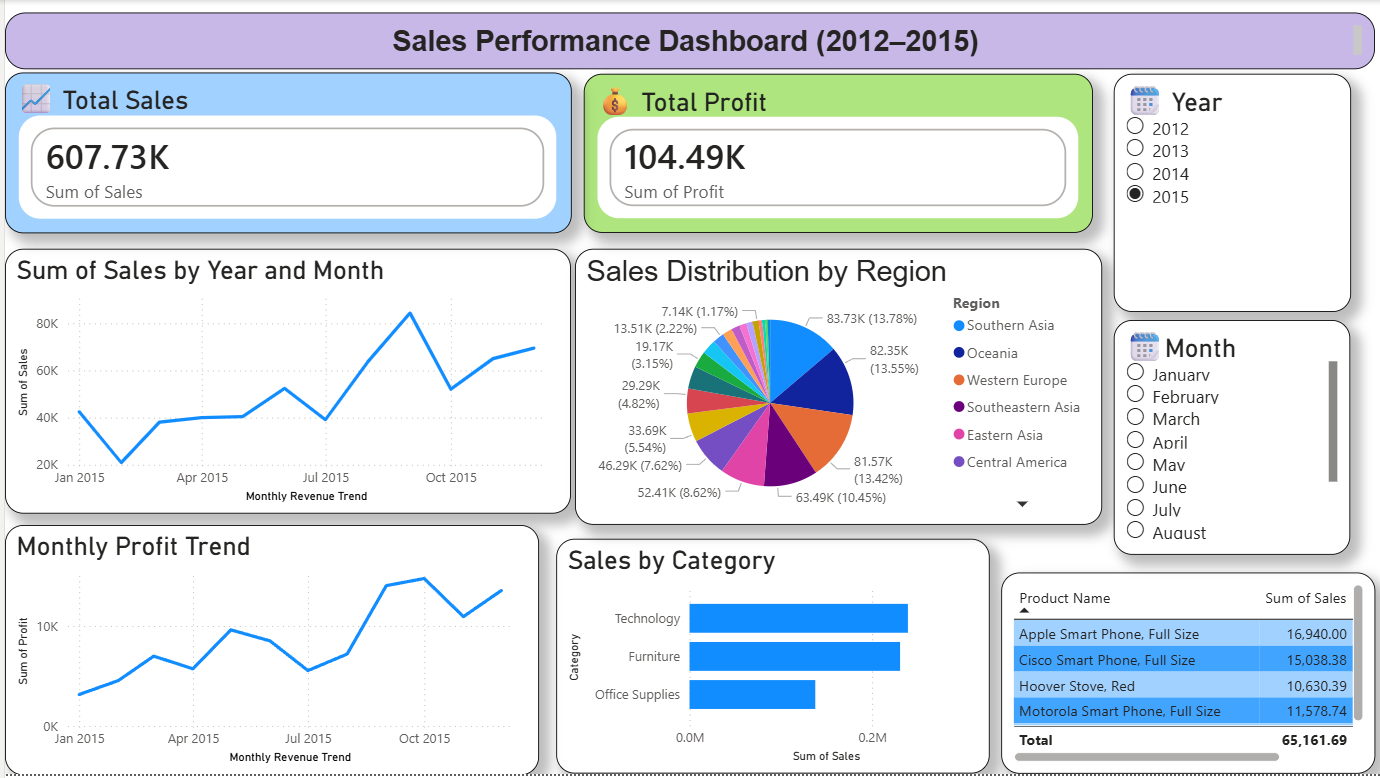

The page's visual inventory and layout, read from the dashboard file:
{"tool":"powerbi","page":{"name":"Page 1","canvas":[1280,720],"ordinal":0},"visuals":[{"type":"lineChart","fields":{"Y":["Sum(sales_data.Sales)"],"Category":["sales_data.Order Date.Variation.Date Hierarchy.Year","sales_data.Order Date.Variation.Date Hierarchy.Month"]},"box":[0,231.4,526.7,246.5],"z":0},{"type":"clusteredBarChart","title":"Sales by Category","fields":{"Category":["sales_data.Category"],"Y":["Sum(sales_data.Sales)"]},"box":[512.8,501.2,403.5,218.6],"z":1000},{"type":"pieChart","title":"Sales Distribution by Region","fields":{"Category":["sales_data.Region"],"Y":["Sum(sales_data.Sales)"]},"box":[530.2,231.4,490.7,257],"z":2000},{"type":"cardVisual","title":"💰 Total Profit","fields":{"Data":["Sum(sales_data.Profit)"]},"box":[538.2,69,473.7,148.1],"z":3000},{"type":"listSlicer","title":"🗓️ Year","fields":{"Values":["sales_data.Order Date.Variation.Date Hierarchy.Year"]},"box":[1031.2,69,220.5,221.6],"z":4000},{"type":"lineChart","title":"Monthly Profit Trend","fields":{"Category":["sales_data.Order Date.Variation.Date Hierarchy.Year","sales_data.Order Date.Variation.Date Hierarchy.Month"],"Y":["Sum(sales_data.Profit)"]},"box":[0,488.4,496.5,232.6],"z":5000},{"type":"tableEx","fields":{"Values":["sales_data.Product Name","Sum(sales_data.Sales)","Sum(sales_data.Profit)"]},"box":[926.7,532.6,347.7,187.2],"z":6000},{"type":"cardVisual","title":"📈 Total Sales","fields":{"Data":["Sum(sales_data.Sales)"]},"box":[0,67.2,526.9,149.6],"z":7000},{"type":"textbox","box":[0,11.3,1274.3,53.1],"z":8000},{"type":"listSlicer","title":"🗓️Month","fields":{"Values":["sales_data.Order Date.Variation.Date Hierarchy.Month"]},"box":[1031.4,297.7,219.8,218.6],"z":9000}]}

Visuals, with their boxes in screenshot pixels (x1, y1, x2, y2), scaled from the page's 1280x720 canvas onto the 1380x778 screenshot:
lineChart - Sum(sales_data.Sales) x sales_data.Order Date.Variation.Date Hierarchy.Year: detection(0, 250, 568, 516)
"Sales by Category" clusteredBarChart: detection(553, 542, 988, 777)
"Sales Distribution by Region" pieChart: detection(572, 250, 1101, 528)
"💰 Total Profit" cardVisual: detection(580, 75, 1091, 235)
"🗓️ Year" listSlicer: detection(1112, 75, 1349, 314)
"Monthly Profit Trend" lineChart: detection(0, 528, 535, 777)
tableEx - sales_data.Product Name x Sum(sales_data.Sales): detection(999, 576, 1374, 777)
"📈 Total Sales" cardVisual: detection(0, 73, 568, 234)
textbox: detection(0, 12, 1374, 70)
"🗓️Month" listSlicer: detection(1112, 322, 1349, 558)
